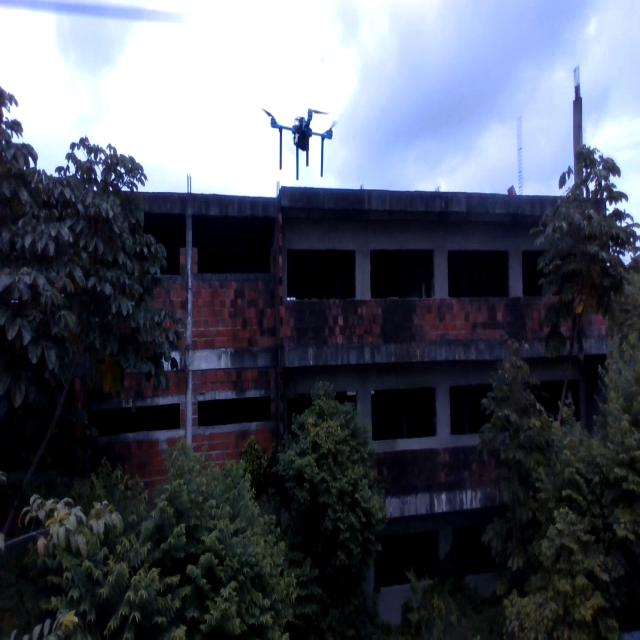-uav-: (254, 90, 340, 190)
